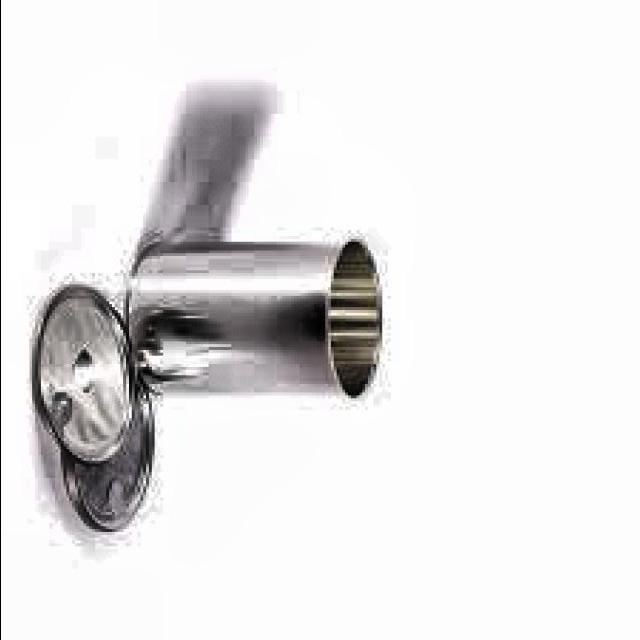litter: (119, 230, 390, 410), (19, 284, 142, 468), (48, 384, 166, 542)
